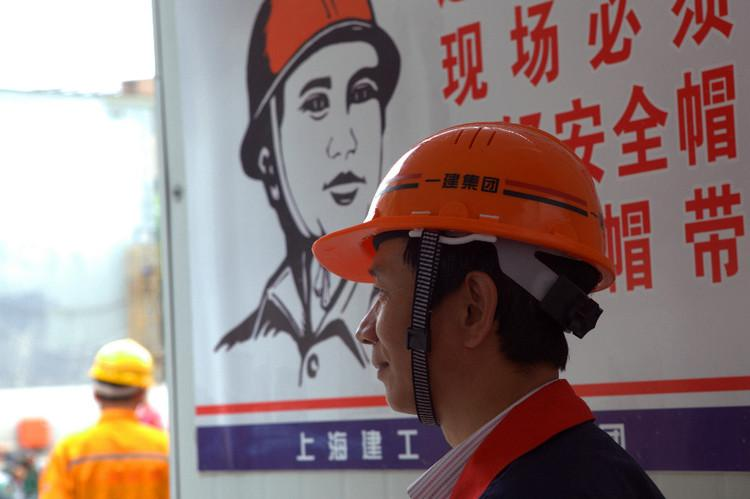helmet: (310, 121, 624, 296), (239, 1, 403, 177), (89, 338, 157, 394)
